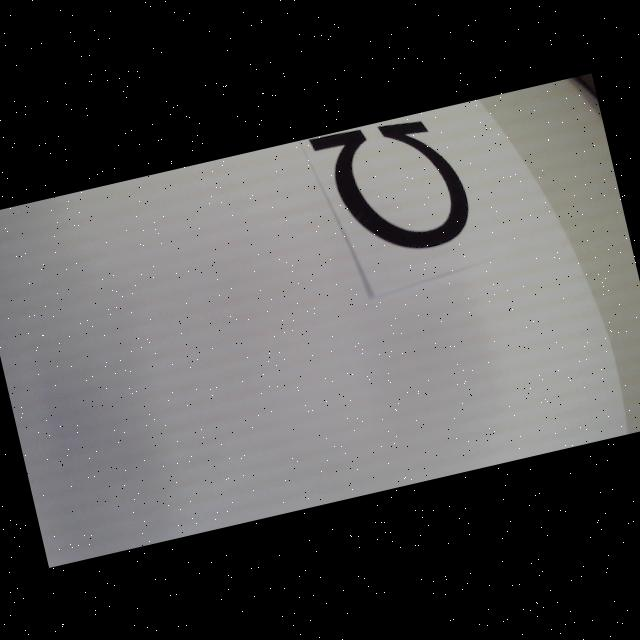OMEGA: (308, 106, 477, 269)
